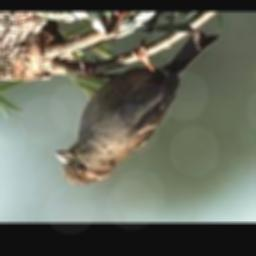Sparrow: (55, 31, 218, 187)
